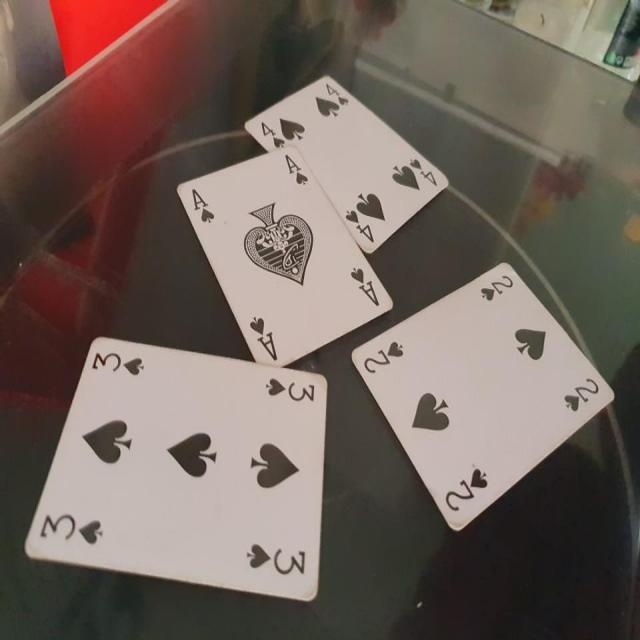2 Spades: (346, 251, 623, 549)
3 Spades: (18, 327, 342, 617)
4 Spades: (247, 65, 455, 267)
A Spades: (169, 140, 403, 370)
